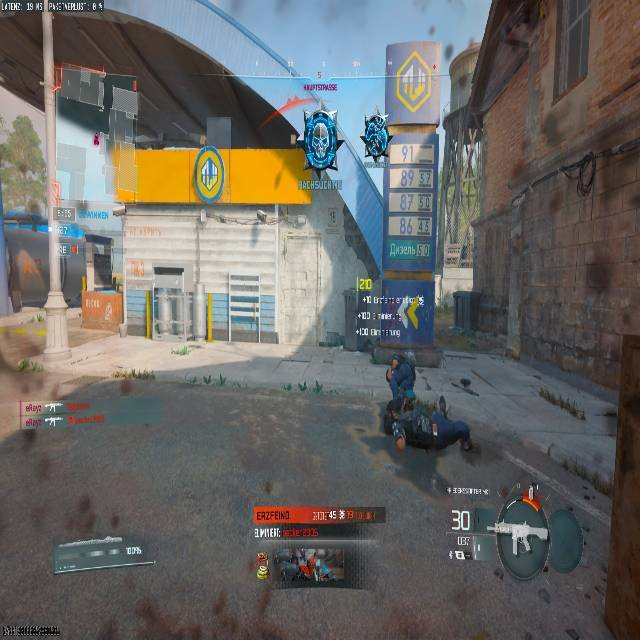head: (390, 355, 401, 367)
player: (384, 353, 416, 413), (360, 112, 390, 164)
